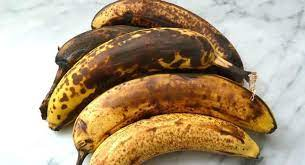looks_defective: (22, 3, 292, 165)
